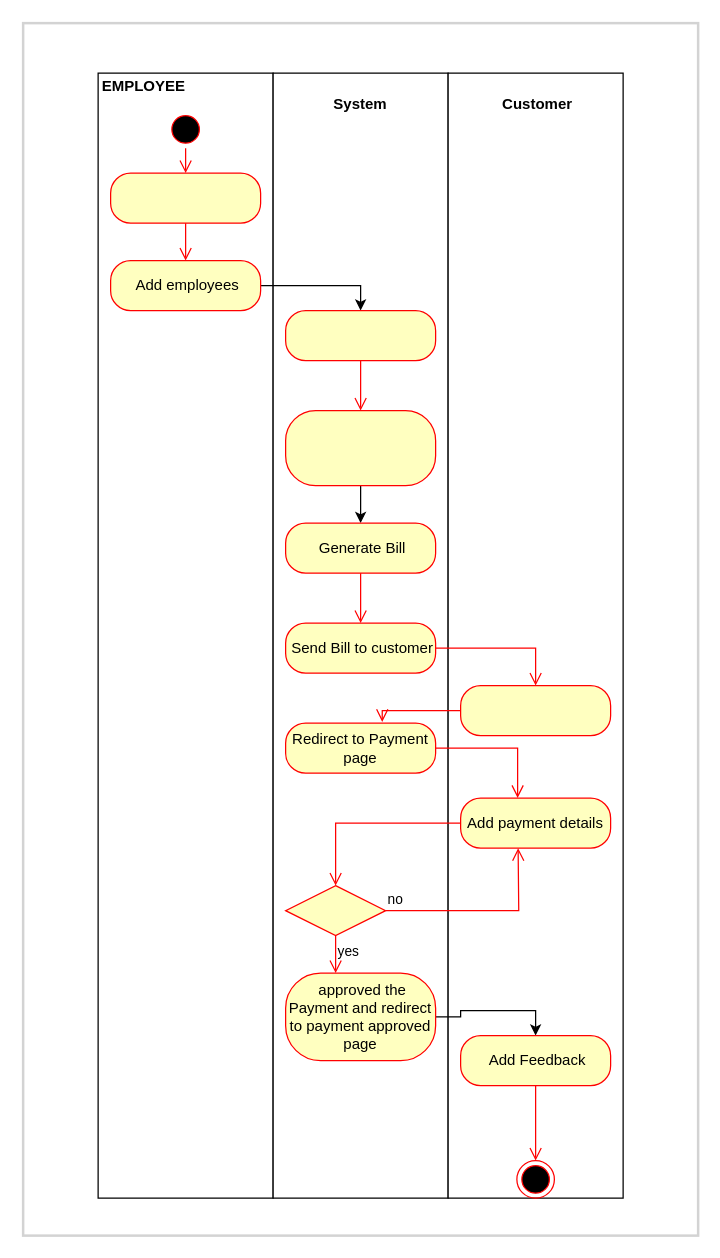
Image size: 720x1258. Some labels were removed from this diagram. The shapes that lost their labels are listed below. From the top down, each one's centre as x and y in pixels, then its label:
pixel 185 197: Register to the system
pixel 360 335: Add details to database and display successful message
pixel 360 447: Calculate Customer electricity Consumption
pixel 535 710: Login
pixel 335 910: Approved
